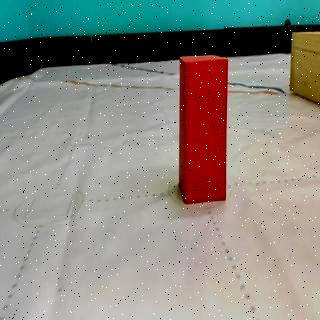redbox: (178, 54, 230, 203)
